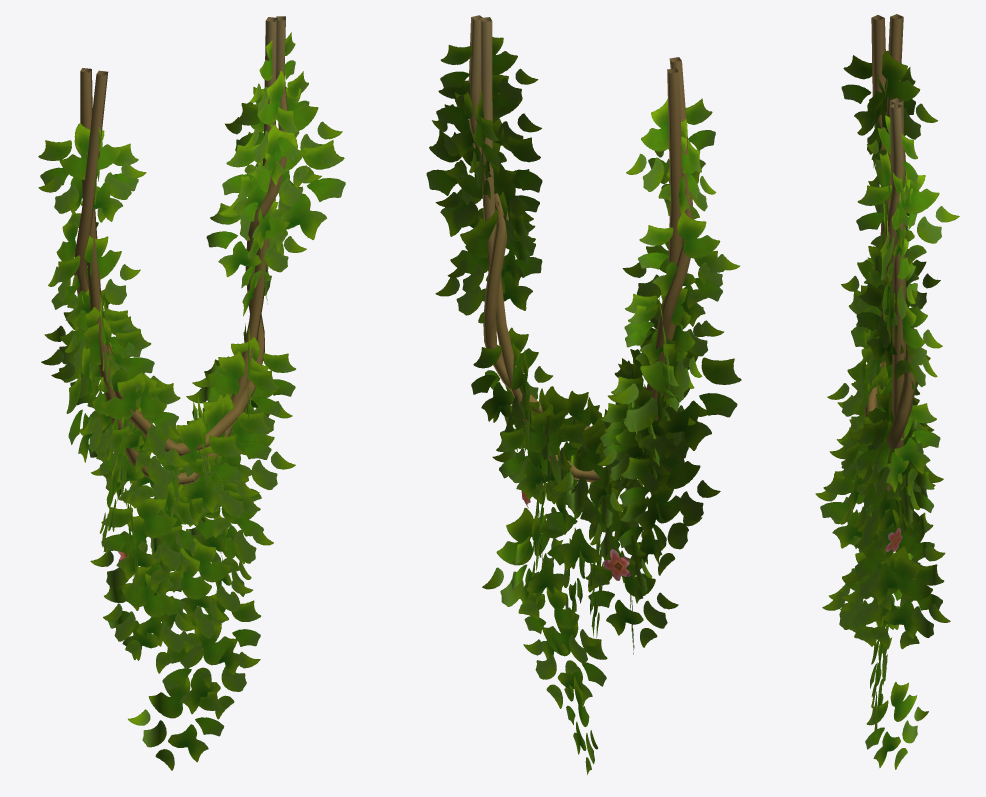
Rendered from P_IvyCoastalVine04.obj.
3 views of the same model, side by side, from view 1: azimuth 30°, elevation 25°; view 2: azimuth 150°, elevation 25°; view 3: azimuth 270°, elevation 25° (orthographic).
Size of the model in its own units: 4.31 by 8.91 by 1.92.
